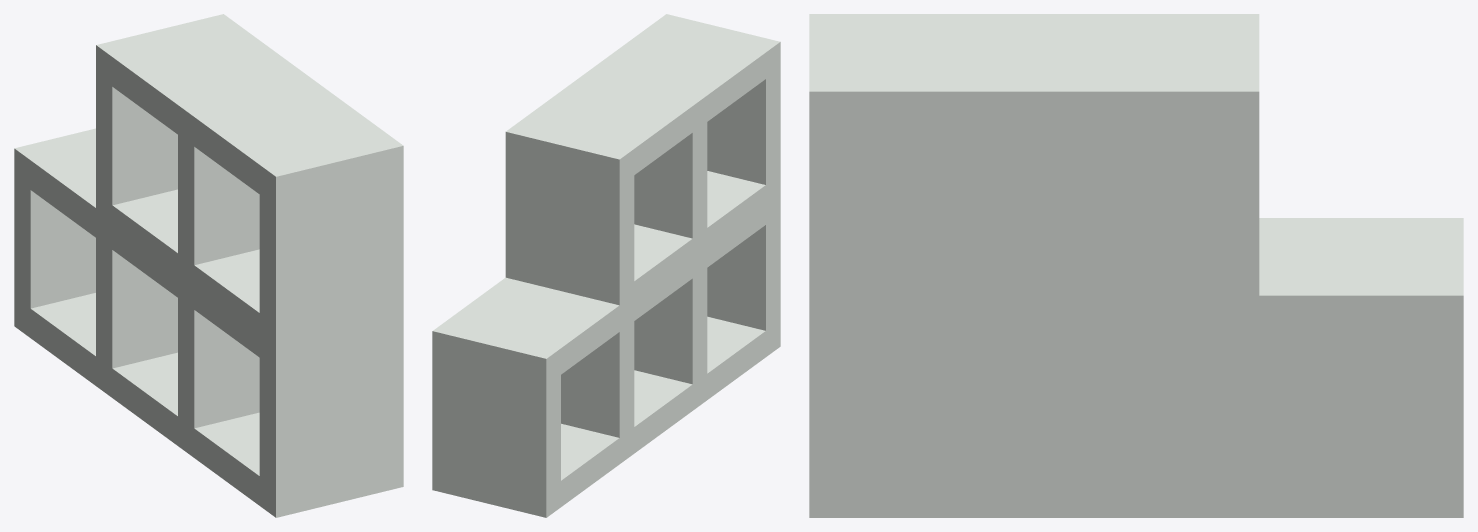
The model's file is shelf2.obj.
3 views of the same model, side by side, from view 1: azimuth 30°, elevation 25°; view 2: azimuth 150°, elevation 25°; view 3: azimuth 270°, elevation 25° (orthographic). The views are drawn at different scales.
Bounding box in the file's own units: 0.9 × 2.3 × 3.2.
Materials: 1 (1 with a texture image).
